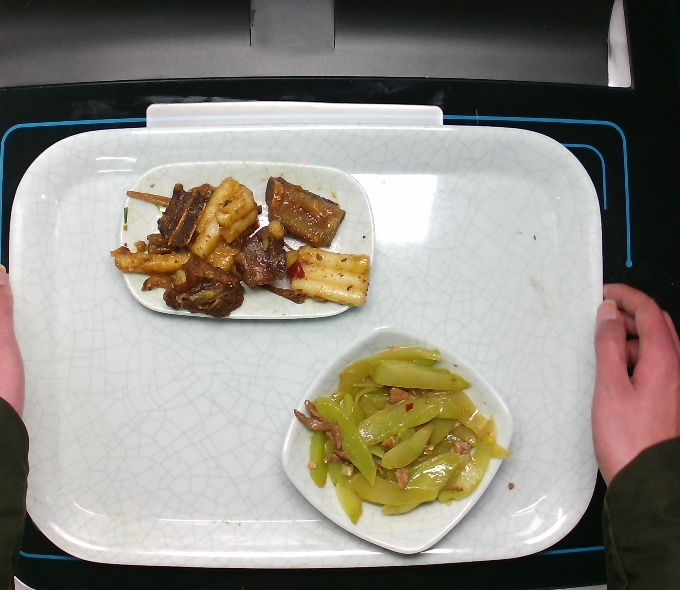wcq-NianGaoZaiPai: (107, 174, 372, 325)
wcq-WoSun: (288, 341, 509, 526)
